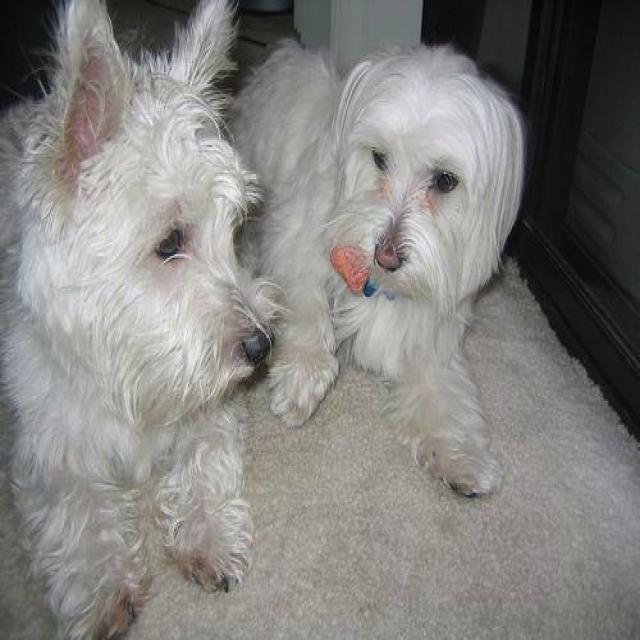maltese_dog: (4, 1, 276, 636), (232, 46, 526, 495)
